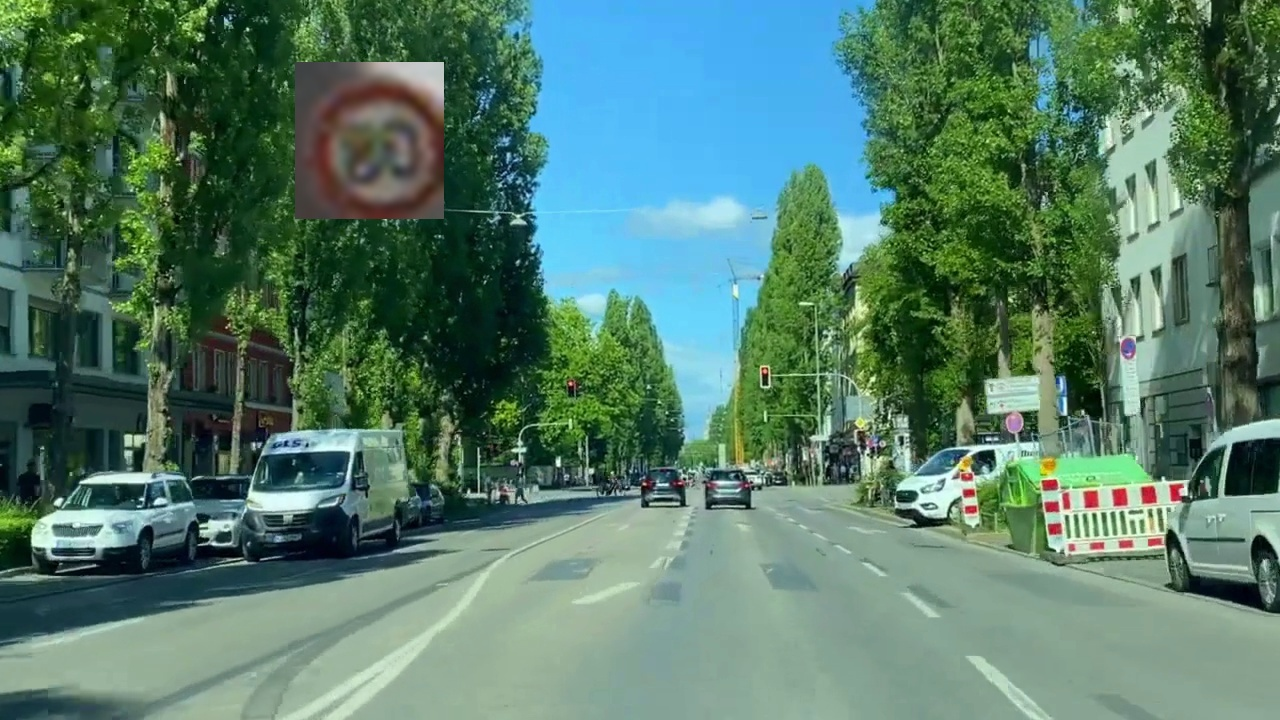Speed 80: (295, 62, 444, 219)
